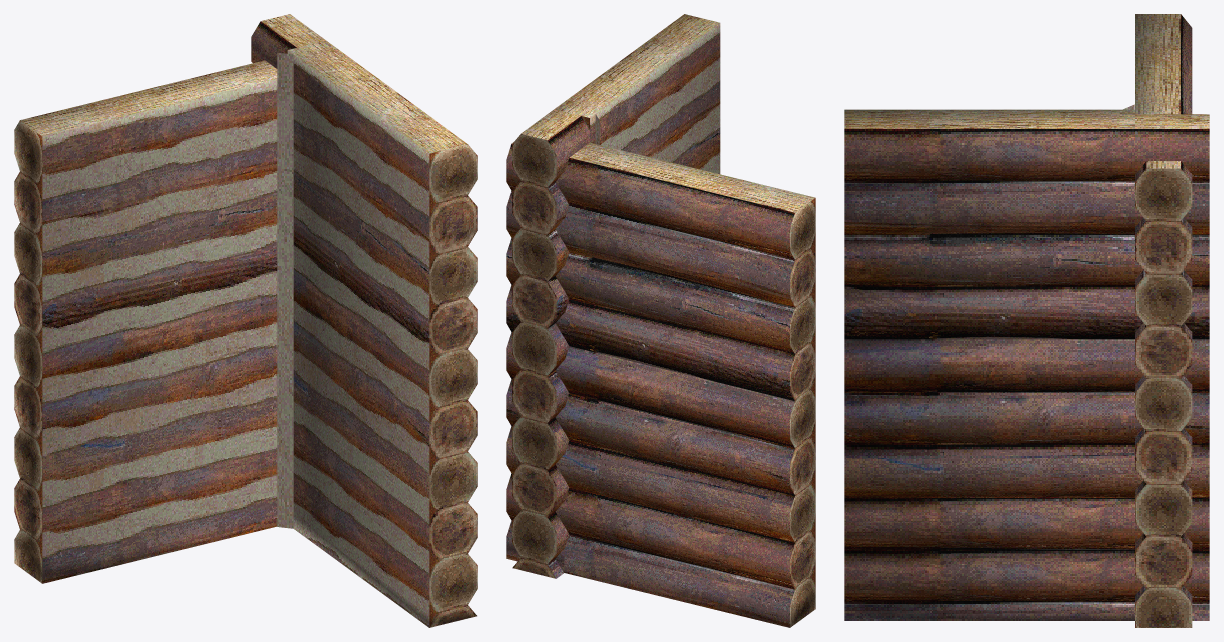
The model's file is wall-corner-BA.glb.
3 views of the same model, side by side, from view 1: azimuth 30°, elevation 25°; view 2: azimuth 150°, elevation 25°; view 3: azimuth 270°, elevation 25° (orthographic). The views are drawn at different scales.
Visible parts, largest first — view 1: wall-corner-BA.001; view 2: wall-corner-BA.001; view 3: wall-corner-BA.001.
Boxes of the visible parts, x1,y1,x2,y2 form: wall-corner-BA.001: (14, 14, 477, 627); wall-corner-BA.001: (506, 14, 815, 627); wall-corner-BA.001: (844, 14, 1209, 627).
Size of the model in its own units: 2.1 by 3.09 by 2.1.
2 materials, 2 textured.
